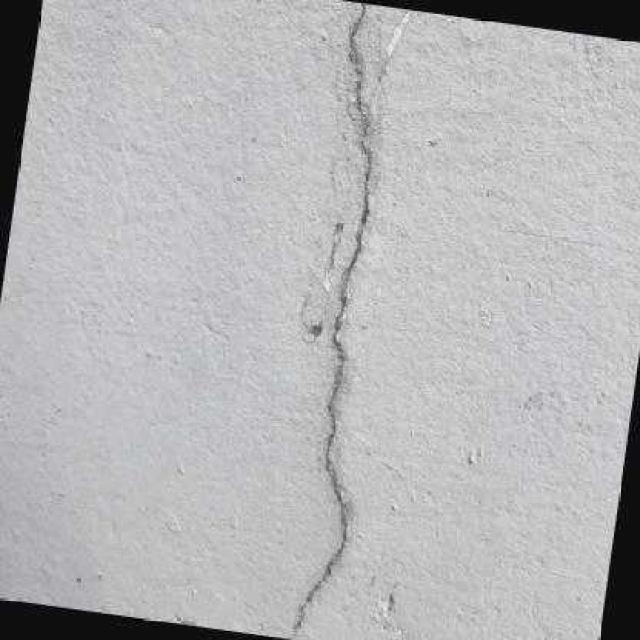D00: (288, 2, 372, 639)
